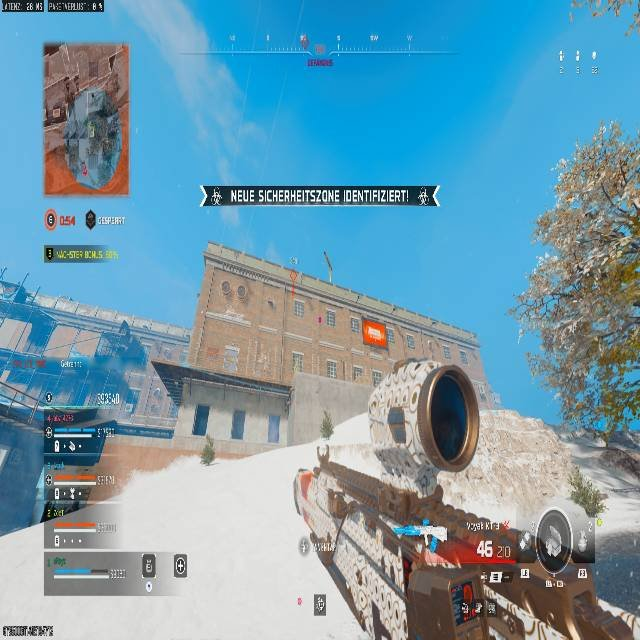player: (370, 362, 420, 450)
